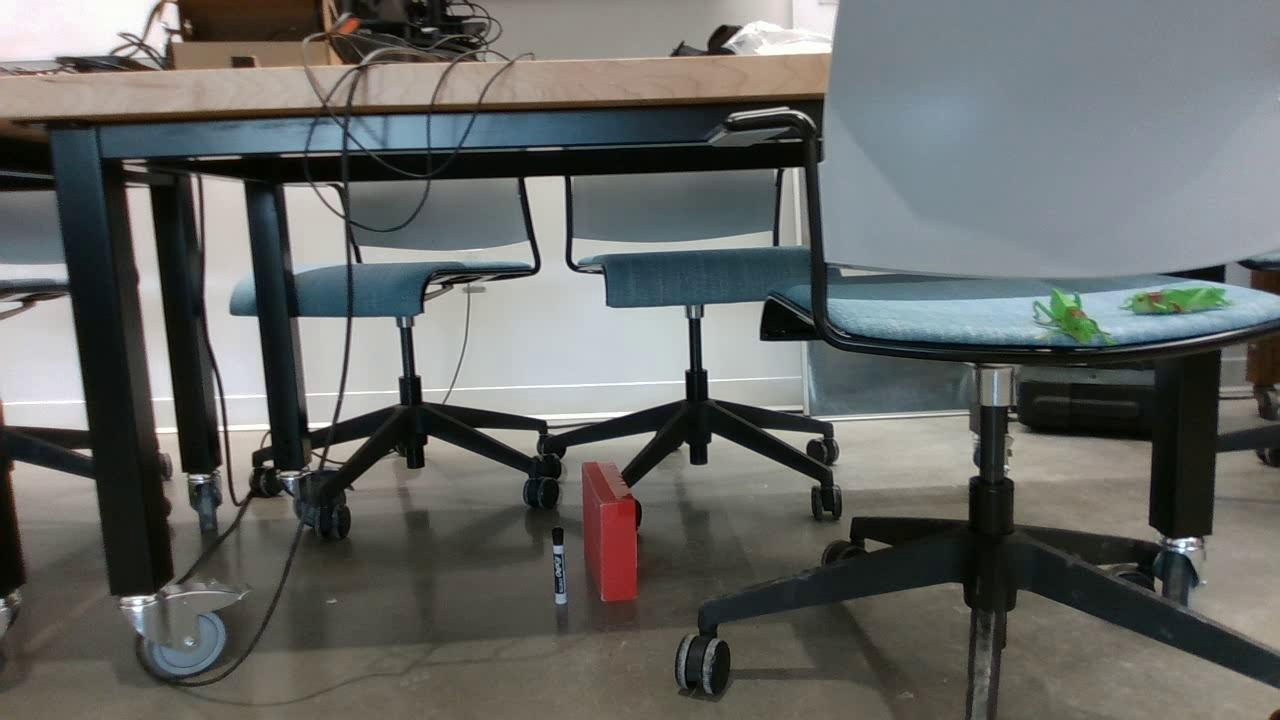grasshopper: (1031, 287, 1119, 344), (1125, 287, 1235, 315)
